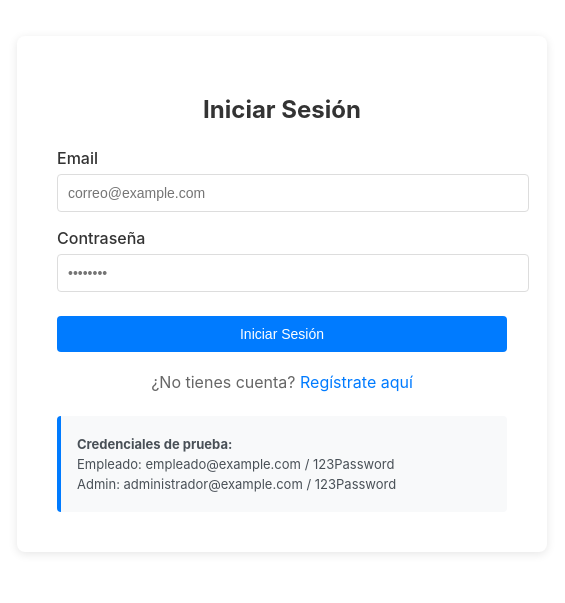
Scenario: Login Component › debe mostrar error si las credenciales son incorrectas
The width and height of the screenshot is (565, 603).
Type "wrong@example.com" into the field with placeholder "correo@example.com" at (293, 194), box [57, 174, 529, 212]
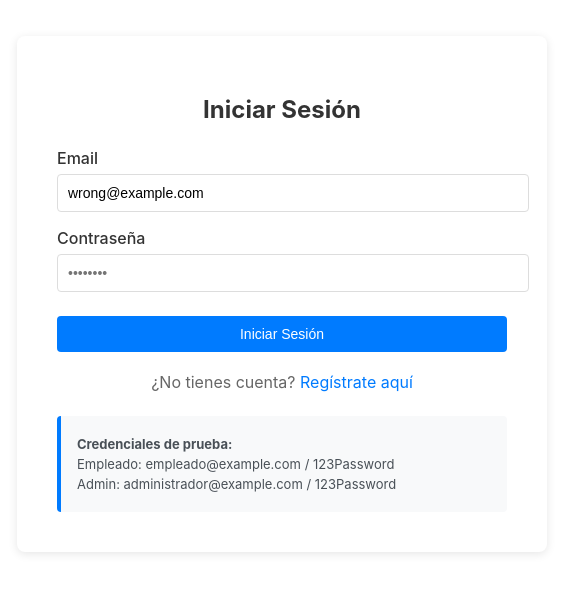
Type "wrongpass" into the password field with placeholder "••••••••" at (293, 274), box [57, 254, 529, 292]
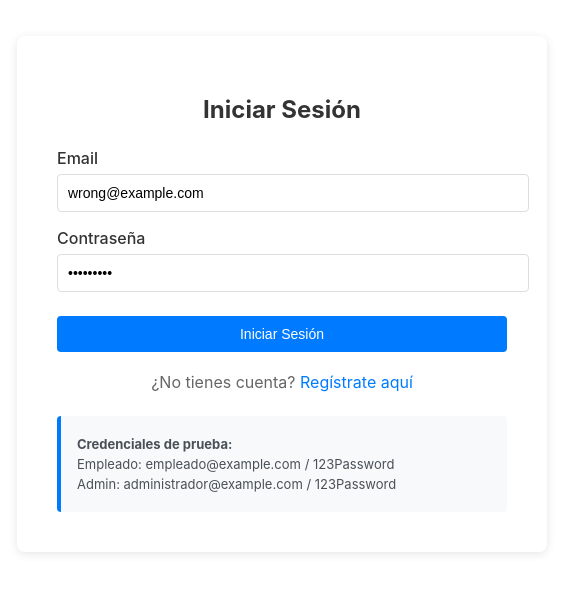
Click the button "Iniciar Sesión" at (282, 334), box [57, 316, 507, 352]
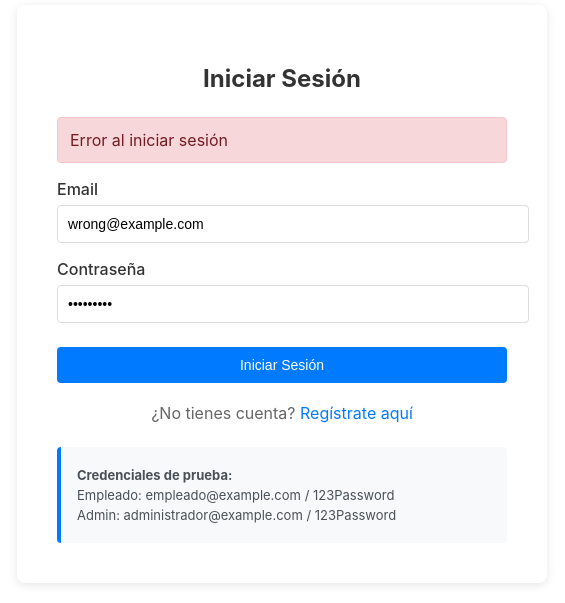
Result: the text "Error al iniciar sesión" is shown at [57, 118, 507, 164]
